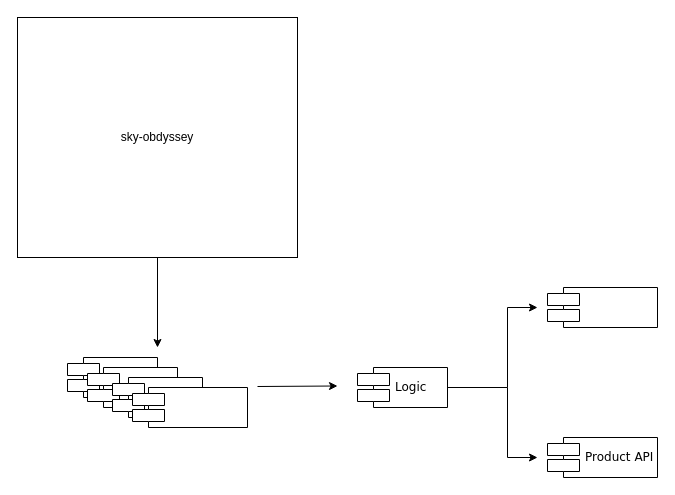
Image size: 675x495. Some labels were removed from this diagram. Each missing label, with the box of its shape:
Components: (132, 386, 248, 428)
Result API: (546, 286, 658, 328)
